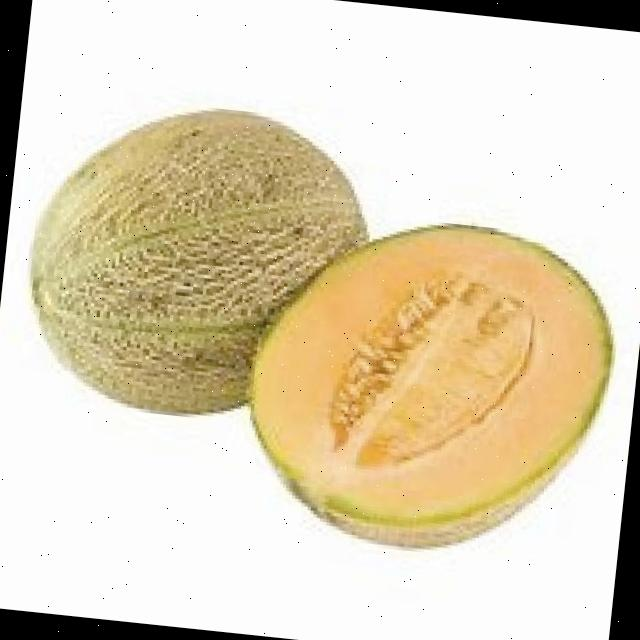Hami Melon: (234, 200, 626, 569), (16, 90, 378, 436)
